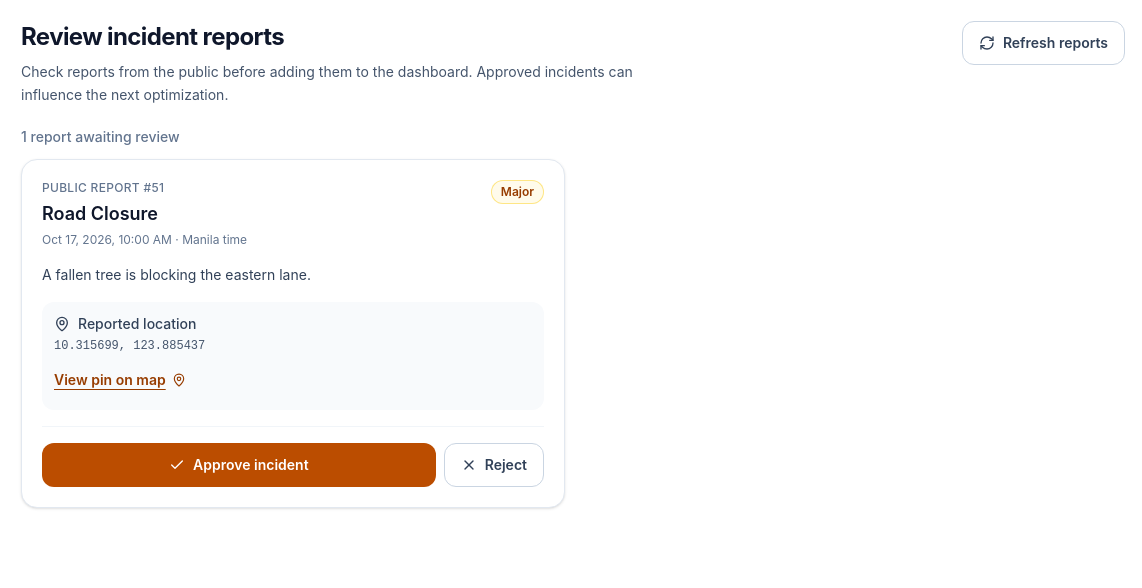
Test: keeps a report after a failed approval and removes it only after a successful retry
What coordinates should you click on to do the following:
click the button with aria-label "Approve report #51"
I would click on:
 (239, 465)
Its box is top-left (42, 443), bottom-right (436, 487).
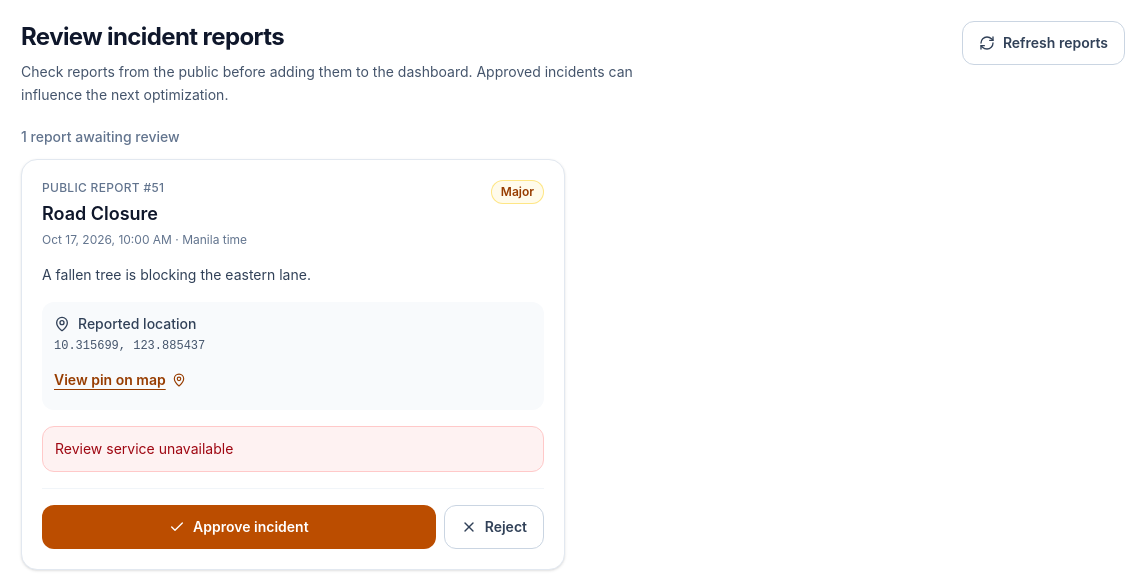
Check: the text "A fallen tree is blocking the eastern lane." is shown, box top-left (42, 266), bottom-right (311, 282)
Check: the message reads "Review service unavailable", box top-left (55, 440), bottom-right (233, 457)
What coordinates should you click on to do the following:
click the button with aria-label "Approve report #51"
I would click on:
 (239, 527)
Its box is top-left (42, 505), bottom-right (436, 549).
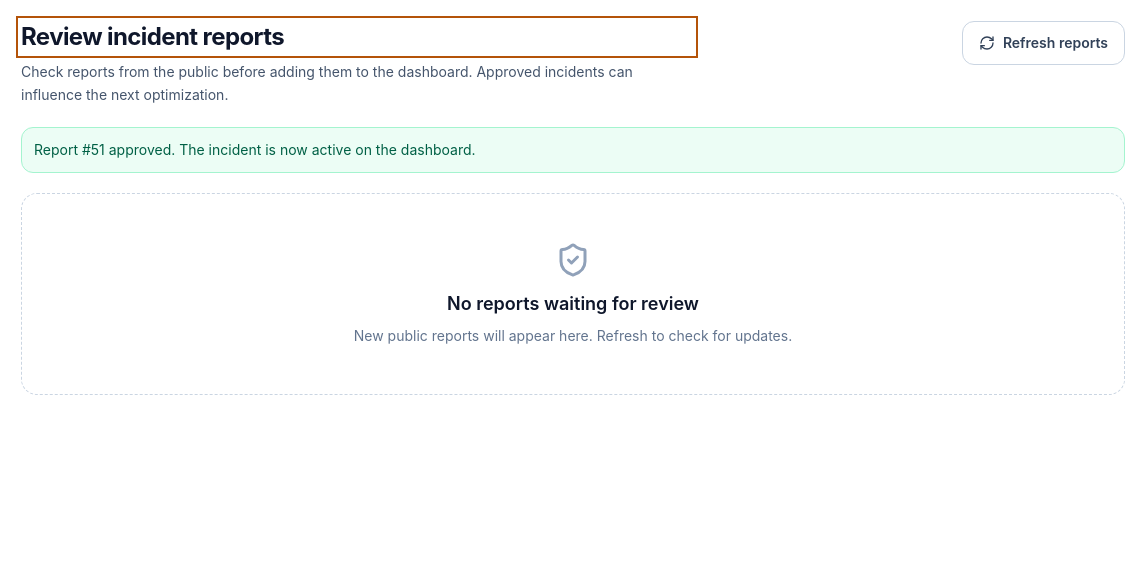
Check: the heading "No reports waiting for review" is shown, box top-left (447, 292), bottom-right (699, 314)
Check: the text "A fallen tree is blocking the eastern lane." is gone
Check: the message shows "now active on the dashboard", box top-left (34, 140), bottom-right (476, 158)
